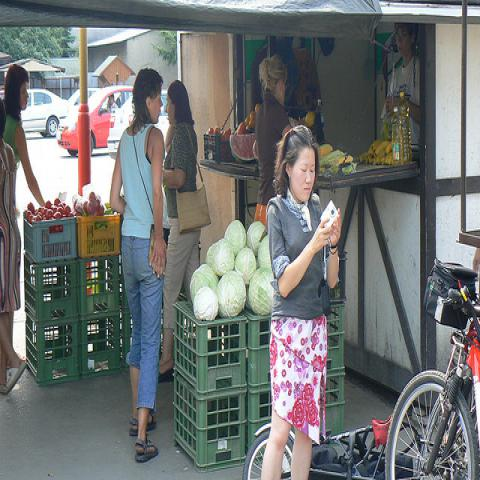car: (55, 85, 134, 156), (107, 91, 170, 160), (20, 88, 68, 138), (68, 88, 102, 115)
